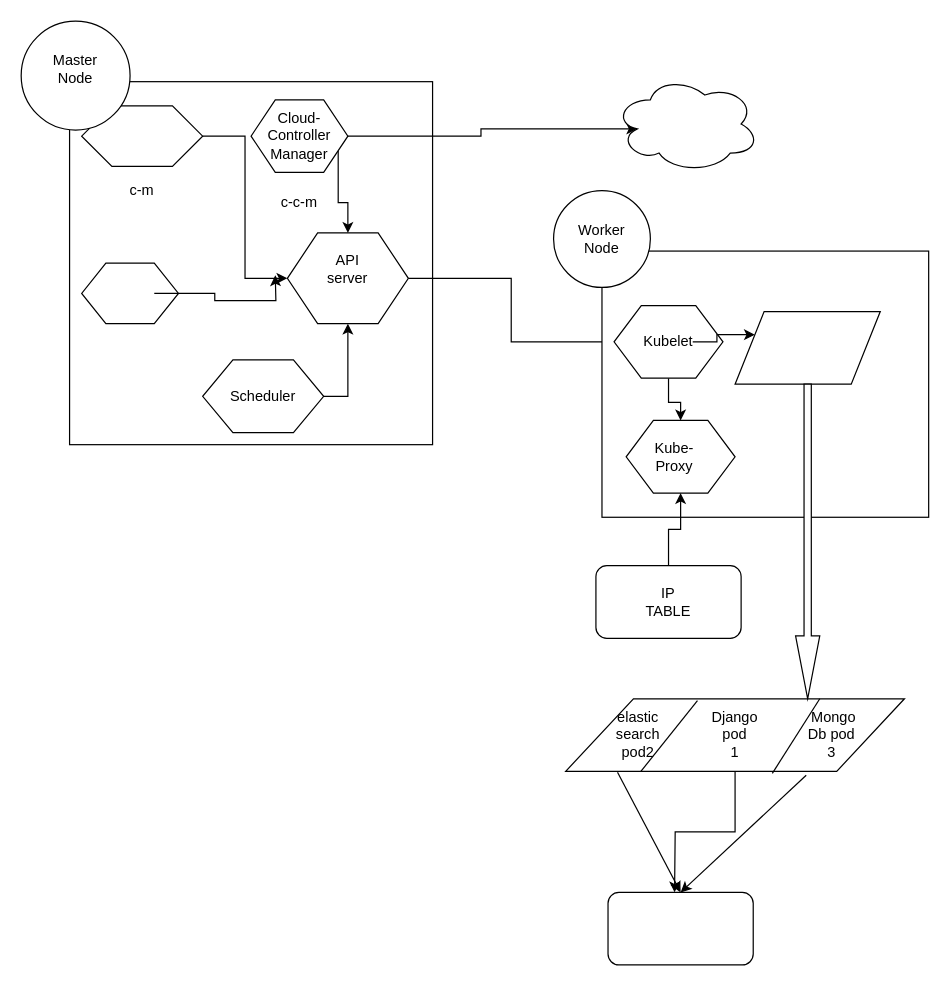
The diagram is 950 pixels wide and 986 high, and some of its shapes have lost their labels. Each missing label, with the box of its shape:
Cloud: (613, 74, 759, 172)
Docker Containers: (607, 891, 753, 965)
etcd: (80, 262, 178, 324)
kubecontroller manager: (80, 105, 203, 166)
POD CLUSTER: (734, 310, 880, 384)
